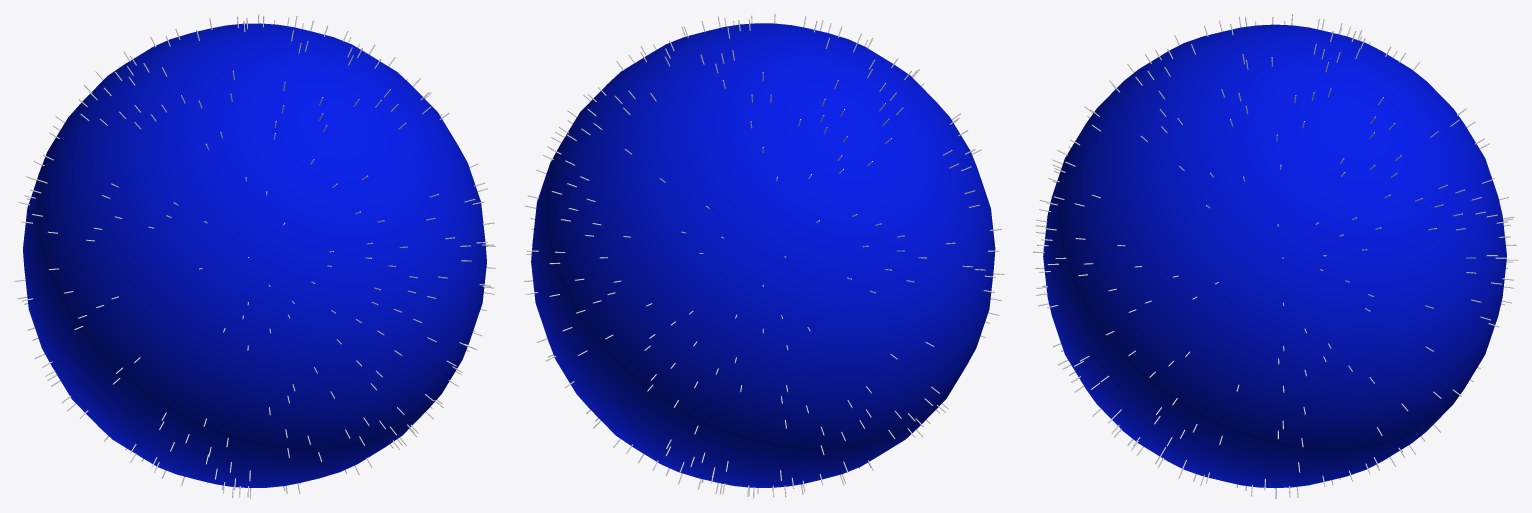
The model's file is untidtl222ed.fbx.
3 renders of one model, left to right at view 1: azimuth 30°, elevation 25°; view 2: azimuth 150°, elevation 25°; view 3: azimuth 270°, elevation 25°, orthographic.
Visible parts, largest first — view 1: Sphere, hair1; view 2: Sphere, hair1; view 3: Sphere, hair1.
Boxes of the visible parts, box(x1,y1,x2,y2) form: Sphere: box(23, 23, 486, 487); hair1: box(14, 14, 495, 498); Sphere: box(531, 23, 995, 487); hair1: box(524, 14, 1004, 498); Sphere: box(1043, 24, 1506, 488); hair1: box(1033, 14, 1517, 498).
Size of the model in its own units: 83.1 by 82.96 by 83.57.
